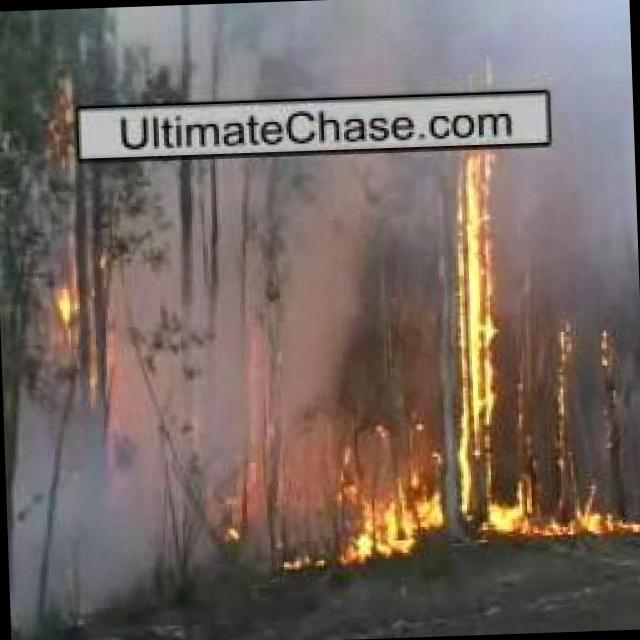Fire: (342, 467, 640, 556), (470, 158, 506, 464), (44, 85, 88, 170), (548, 328, 576, 430), (212, 488, 251, 548), (46, 270, 81, 326), (594, 326, 618, 366)
Smoke: (0, 146, 640, 478), (106, 0, 632, 105)
